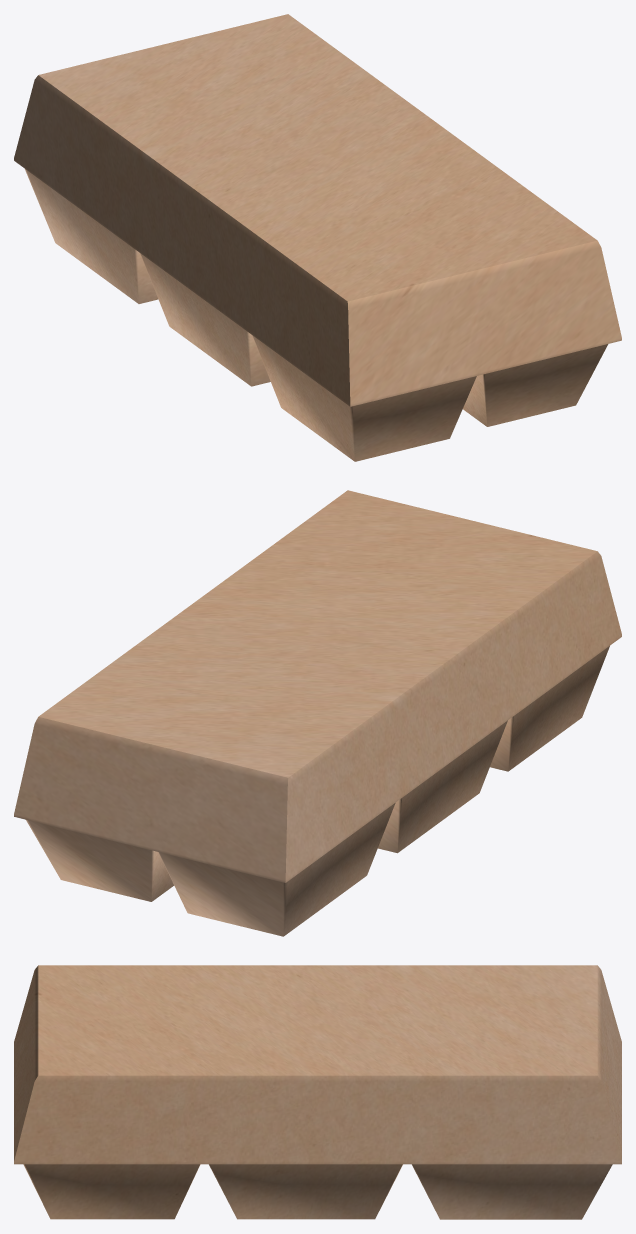
Rendered from EggCarton.fbx.
3 views of the same model, one above another, from view 1: azimuth 30°, elevation 25°; view 2: azimuth 150°, elevation 25°; view 3: azimuth 270°, elevation 25° (orthographic). The views are drawn at different scales.
Parts seen in each view (by area): view 1: polySurface1; view 2: polySurface1; view 3: polySurface1.
Part boxes in pixels (x1,y1,x2,y2): polySurface1: (14, 14, 621, 461); polySurface1: (14, 490, 621, 936); polySurface1: (14, 965, 621, 1219).
Bounding box in the file's own units: 1.42 × 0.8313 × 3.05.
1 material, 1 textured.
